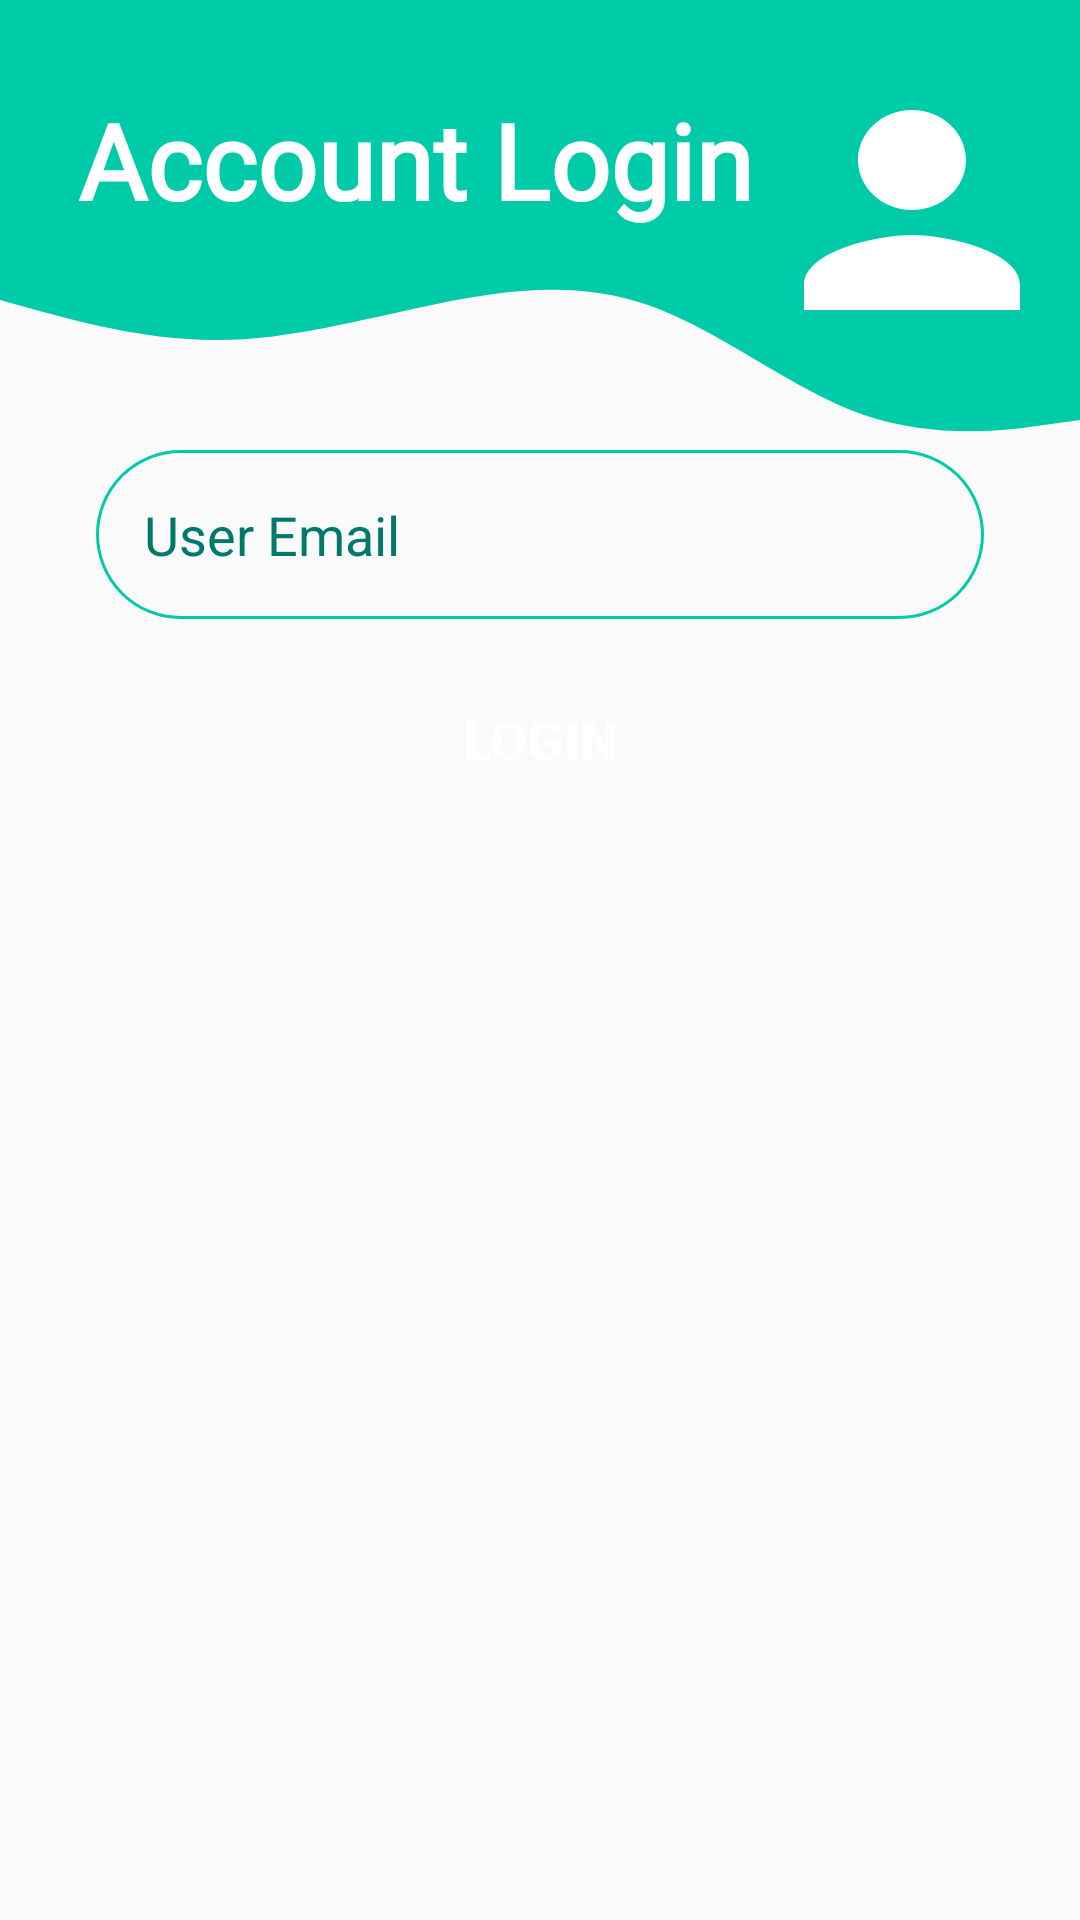

Icons on this 1080px×1920px Android screen, each with its box as (left=x1, top=y1, right=x2, bottom=y2):
person: (left=804, top=110, right=1020, bottom=310)
